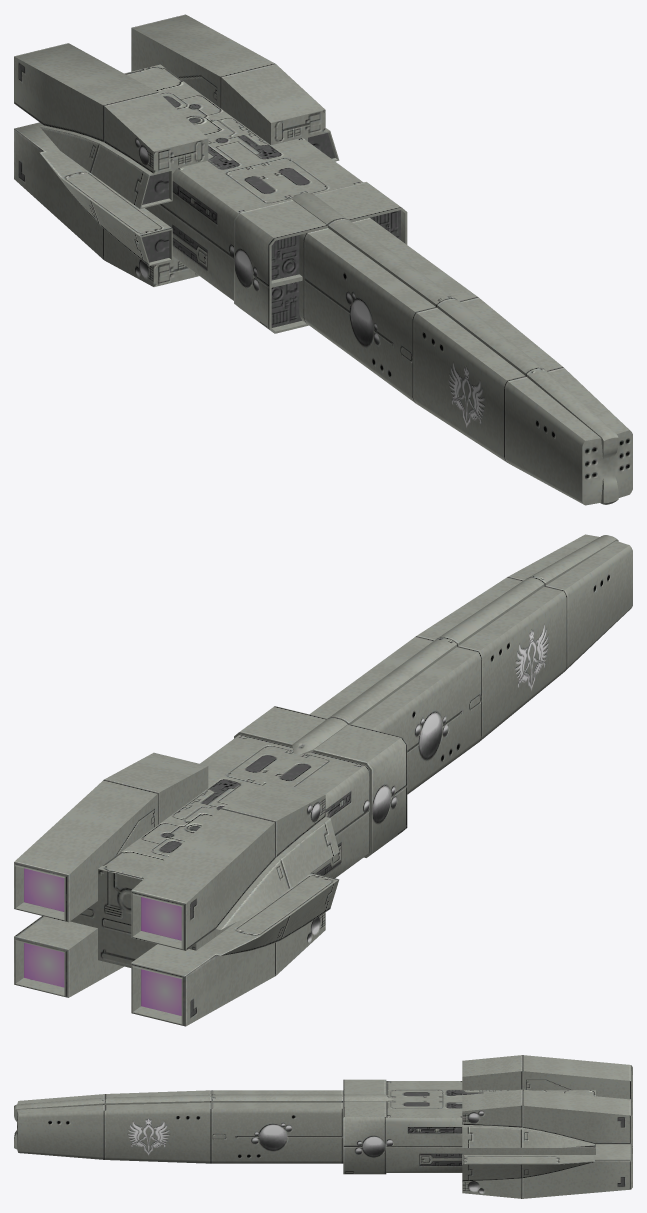
The model's file is GE_CommandShip_Jotunheim.obj.
3 renders of one model, top to bottom at view 1: azimuth 30°, elevation 25°; view 2: azimuth 150°, elevation 25°; view 3: azimuth 270°, elevation 25°, orthographic. The views are drawn at different scales.
Visible parts, largest first — view 1: GE_CommandShip_Jotunheim; view 2: GE_CommandShip_Jotunheim; view 3: GE_CommandShip_Jotunheim.
Part boxes in pixels (bbox=[...]): GE_CommandShip_Jotunheim: bbox=[14, 14, 632, 505]; GE_CommandShip_Jotunheim: bbox=[14, 534, 632, 1026]; GE_CommandShip_Jotunheim: bbox=[14, 1055, 632, 1198].
Bounding box in the file's own units: 214 × 158 × 951.
